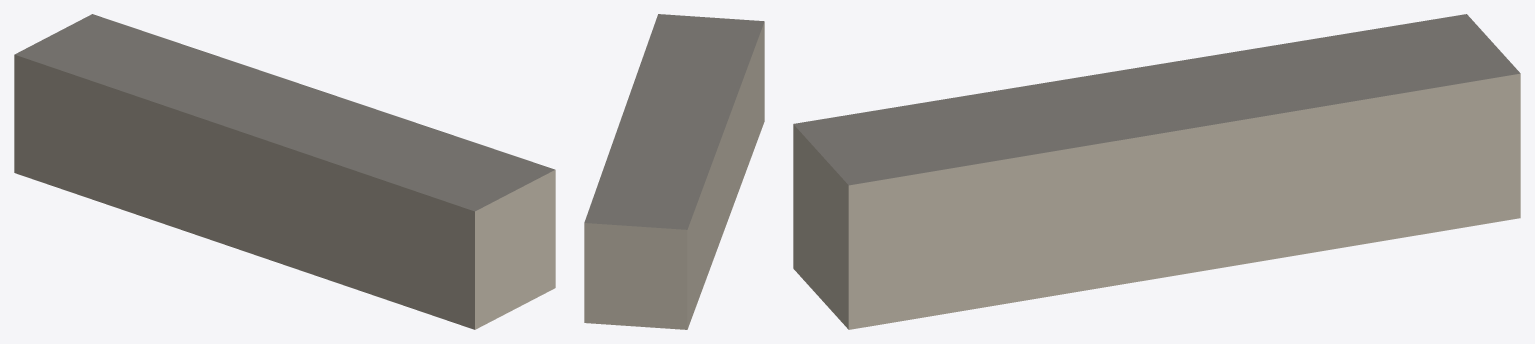
3 views of the same model, side by side, from view 1: azimuth 30°, elevation 25°; view 2: azimuth 150°, elevation 25°; view 3: azimuth 270°, elevation 25° (orthographic). The views are drawn at different scales.
Parts seen in each view (by area): view 1: HP-w369317475; view 2: HP-w369317475; view 3: HP-w369317475.
Boxes of the visible parts, box(x1,y1,x2,y2) form: HP-w369317475: box(14, 14, 555, 329); HP-w369317475: box(584, 14, 764, 329); HP-w369317475: box(793, 14, 1520, 329).
Bounding box in the file's own units: 45.78 × 18 × 82.11.
